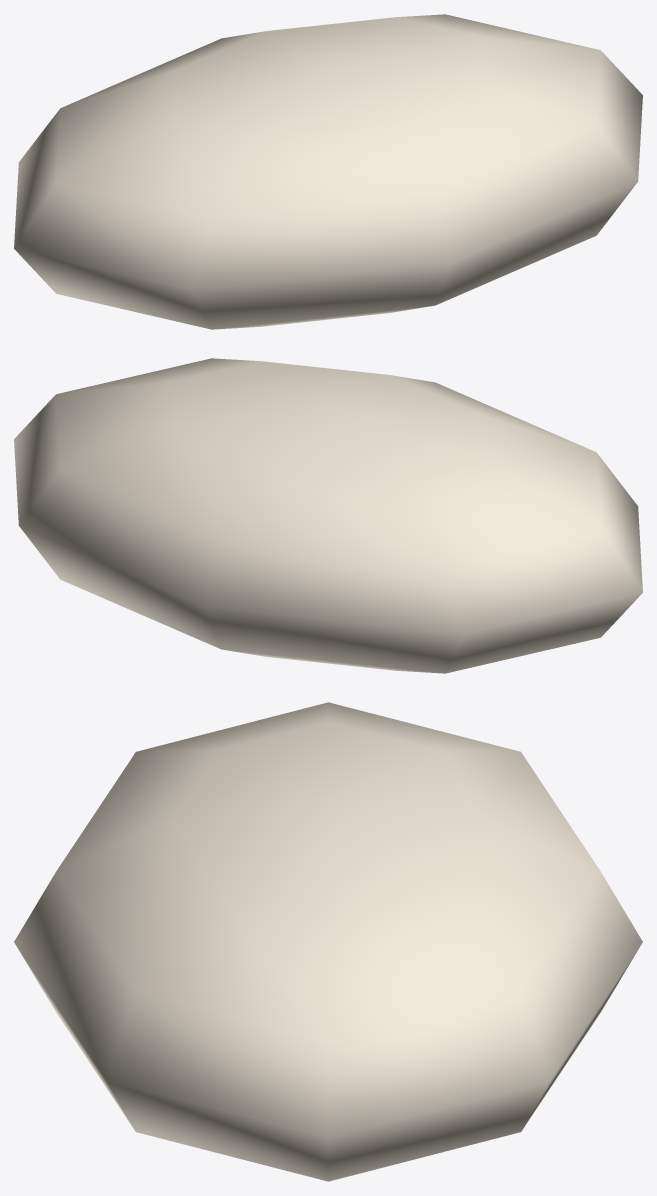
File: item-pillow.glb
3 views of the same model, one above another, from view 1: azimuth 30°, elevation 25°; view 2: azimuth 150°, elevation 25°; view 3: azimuth 270°, elevation 25° (orthographic). The views are drawn at different scales.
Visible parts, largest first — view 1: #f0e8d8; view 2: #f0e8d8; view 3: #f0e8d8.
Part boxes in pixels (<box>): #f0e8d8: <box>14,14,642,329</box>; #f0e8d8: <box>14,358,642,673</box>; #f0e8d8: <box>14,702,642,1181</box>.
Size of the model in its own units: 0.5 by 0.168 by 0.34.
